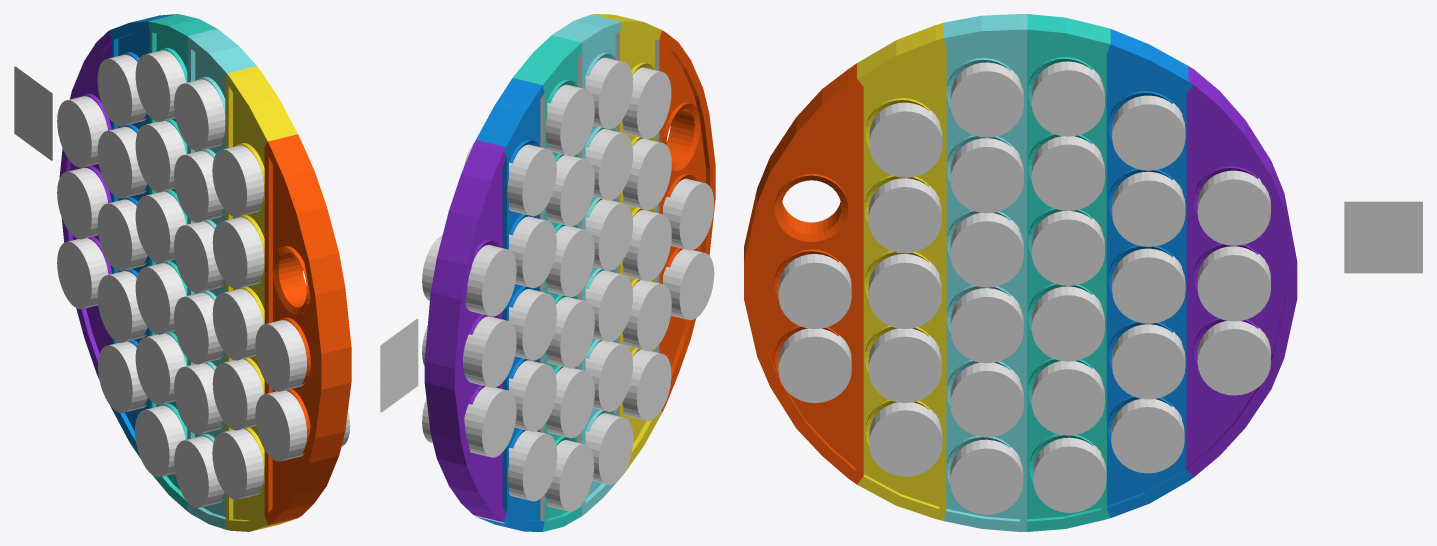
The model's file is popitGovna2.fbx.
3 views of the same model, side by side, from view 1: azimuth 30°, elevation 25°; view 2: azimuth 150°, elevation 25°; view 3: azimuth 270°, elevation 25° (orthographic). The views are drawn at different scales.
Visible parts, largest first — view 1: Цилиндр, Popit, Pop; view 2: Цилиндр, Popit, Pop; view 3: Цилиндр, Popit, Pop.
Boxes of the visible parts, x1=… form: Цилиндр: x1=57, y1=50, x2=350, y2=507; Popit: x1=59, y1=14, x2=351, y2=531; Pop: x1=14, y1=66, x2=52, y2=160; Цилиндр: x1=422, y1=57, x2=714, y2=511; Popit: x1=424, y1=14, x2=715, y2=531; Pop: x1=380, y1=319, x2=418, y2=412; Цилиндр: x1=778, y1=61, x2=1270, y2=514; Popit: x1=744, y1=14, x2=1297, y2=531; Pop: x1=1344, y1=201, x2=1422, y2=273.
Bounding box in the file's own units: 52.9 × 399 × 489.
